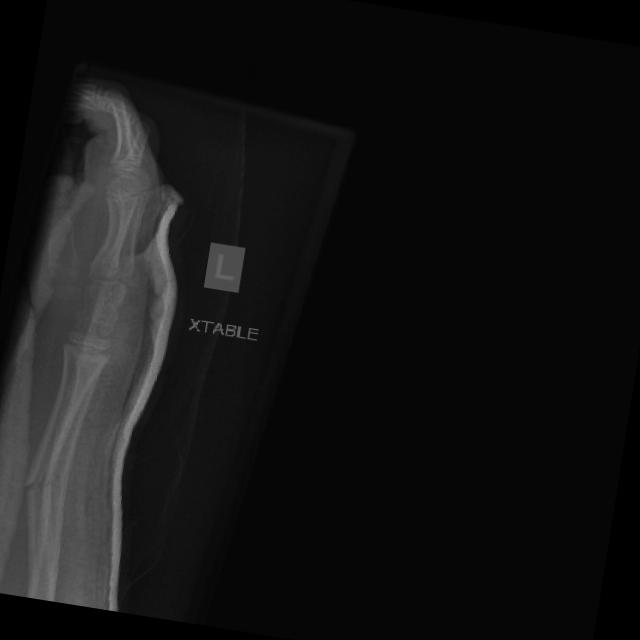forearm fracture: (15, 452, 72, 514)
